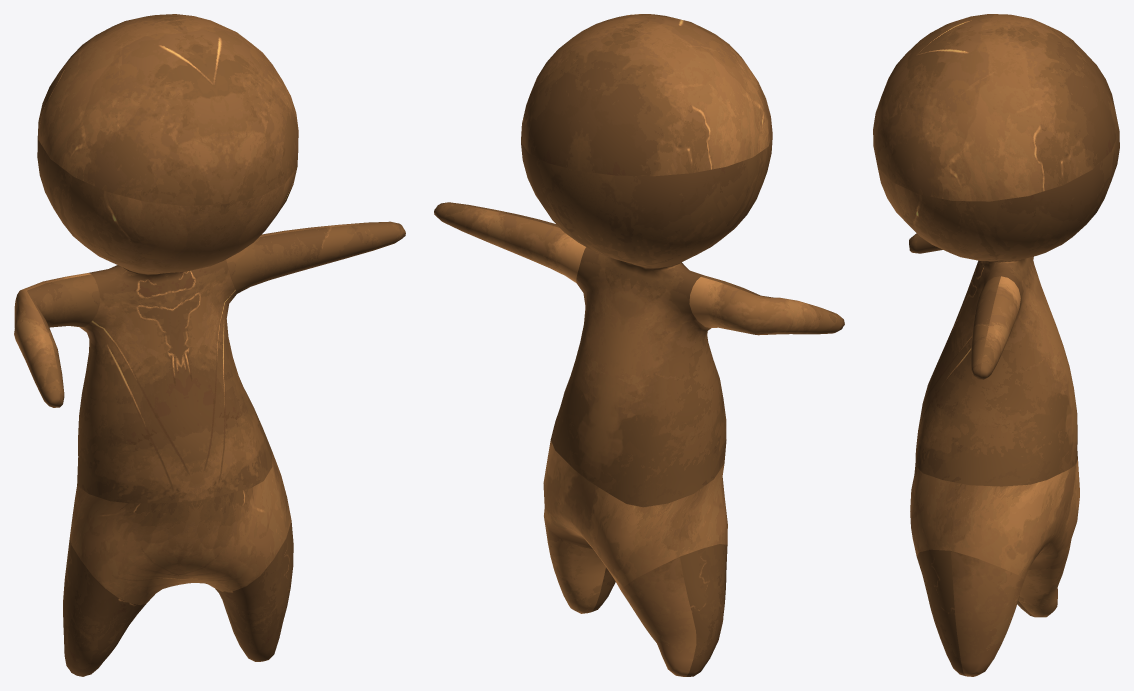
File: personagem6.fbx
3 views of the same model, side by side, from view 1: azimuth 30°, elevation 25°; view 2: azimuth 150°, elevation 25°; view 3: azimuth 270°, elevation 25° (orthographic). The views are drawn at different scales.
Visible parts, largest first — view 1: polySurface125; view 2: polySurface125; view 3: polySurface125.
Part boxes in pixels (<box>): polySurface125: <box>14,14,405,676</box>; polySurface125: <box>434,14,844,676</box>; polySurface125: <box>873,14,1119,676</box>.
Size of the model in its own units: 39.22 by 62.17 by 22.45.
